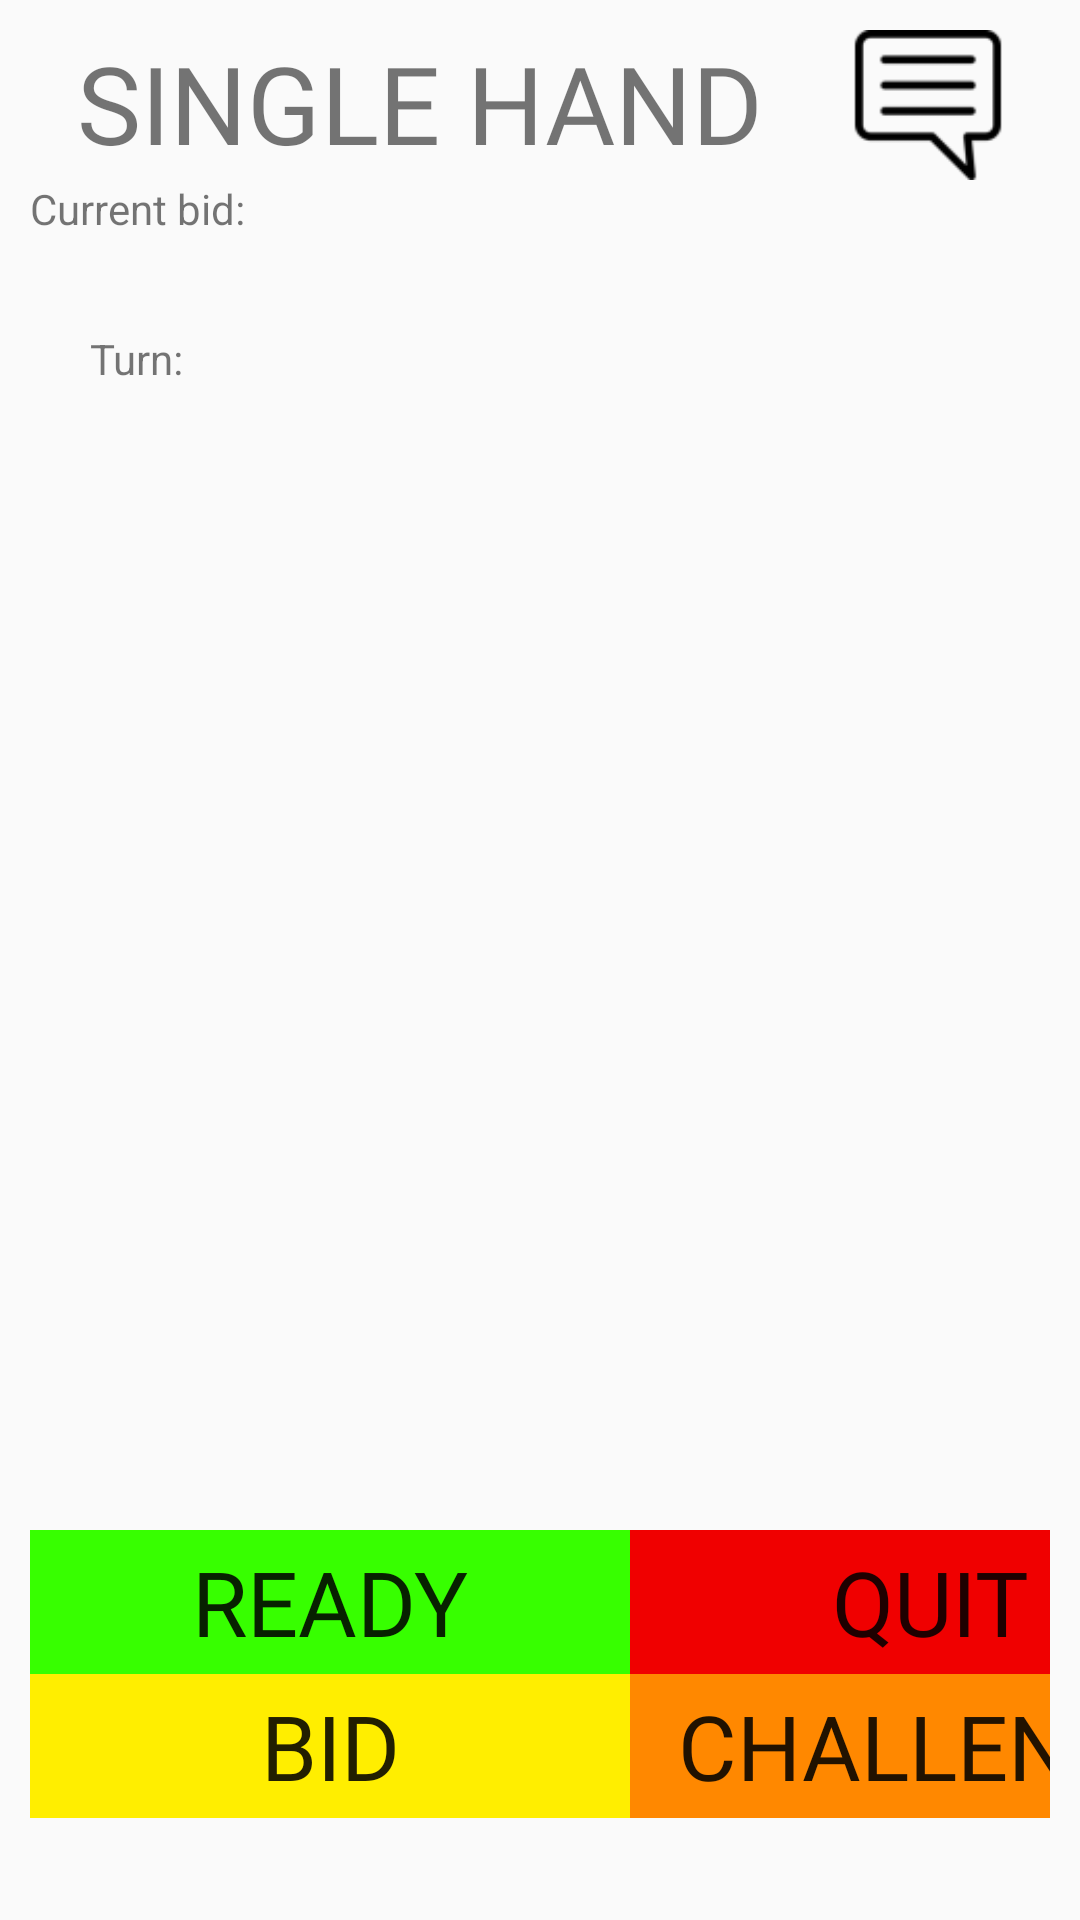

Icon bounding boxes for this 1080w x 1920h phone screenshot, format (x1, y1, x2, y2):
chat: (854, 30, 1002, 180)
